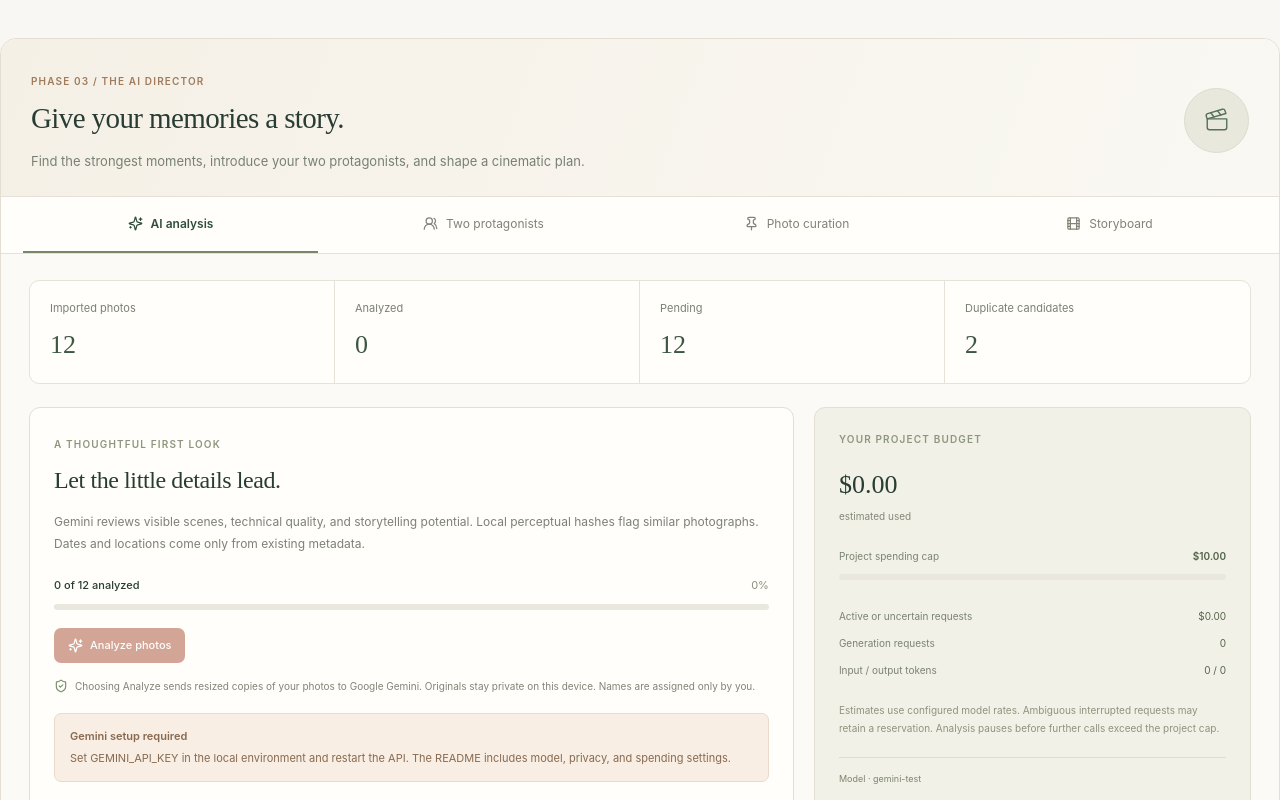
Test case: the private AI Director › requires an explicit action and explains the missing server key without sending any photos
The width and height of the screenshot is (1280, 800).
expect the text "Gemini setup required" is shown: met, box [70, 729, 187, 743]
expect the text "Choosing Analyze sends resized copies of your photos to Google Gemini" is shown: met, box [75, 680, 755, 692]
Click the tab "Storyboard" at (1110, 225), box [962, 197, 1257, 253]
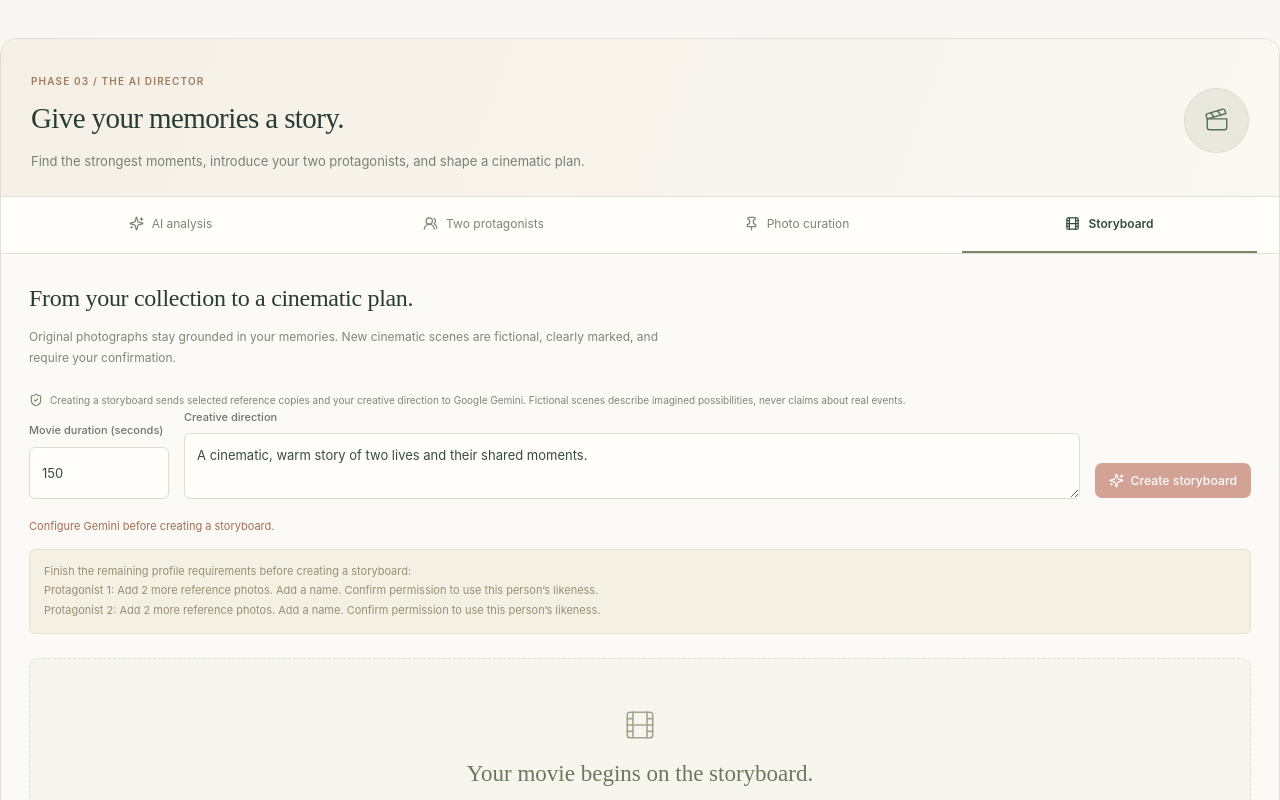
expect the button "Create storyboard" is disabled: met, box [1094, 463, 1251, 498]
